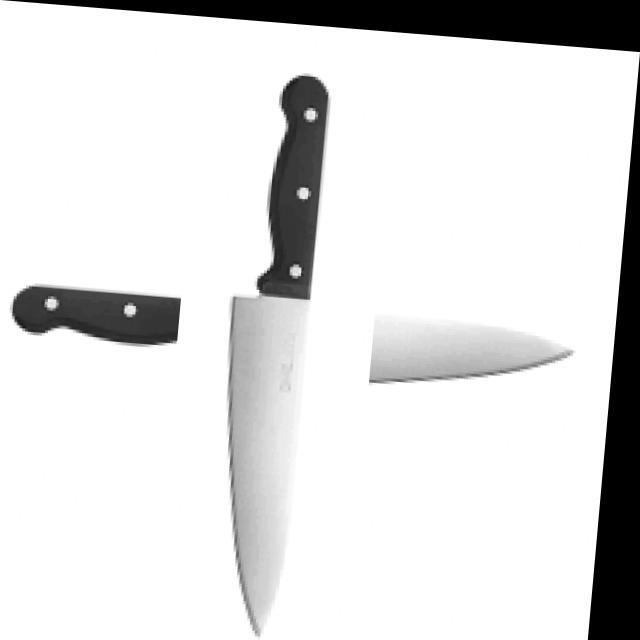knife: (10, 283, 576, 389), (225, 75, 332, 635)
